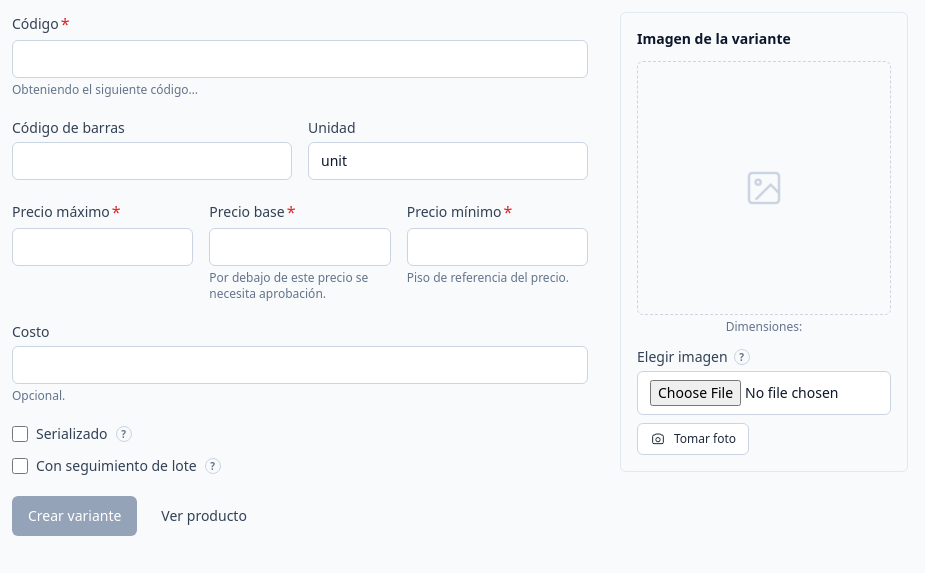
Test: VariantForm — create › blocks min > base client-side
The image size is (925, 573).
Type "CODE-1" into the field labelled "Código" at coordinates (300, 59), box [12, 40, 588, 78]
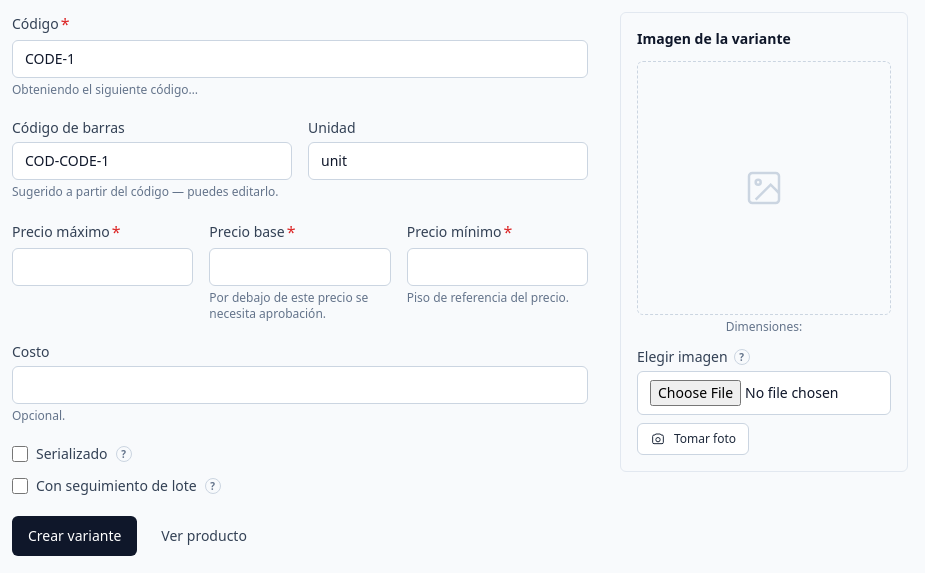
Type "10" into the number field labelled "Precio máximo" at coordinates (103, 267), box [12, 248, 193, 286]
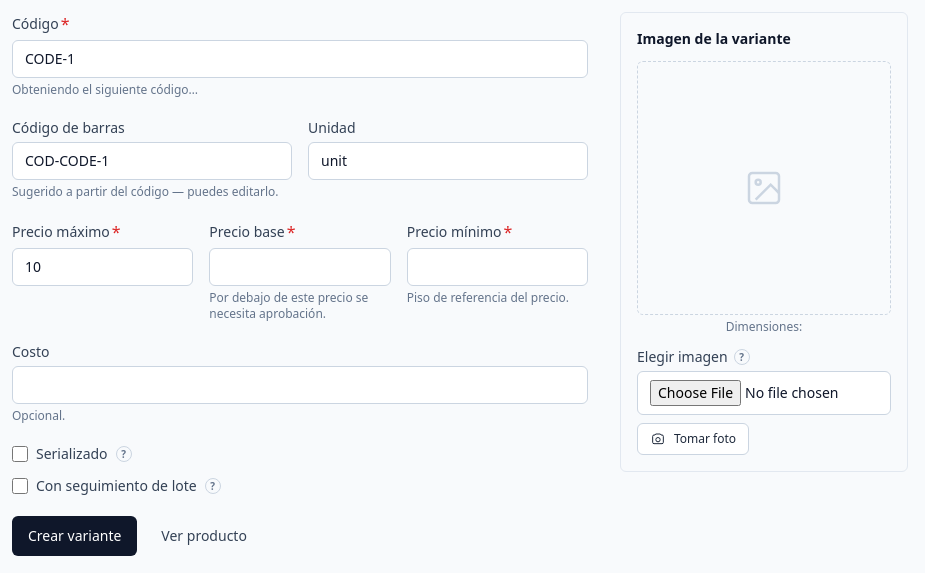
Type "8" into the number field labelled "Precio base" at coordinates (300, 267), box [209, 248, 391, 286]
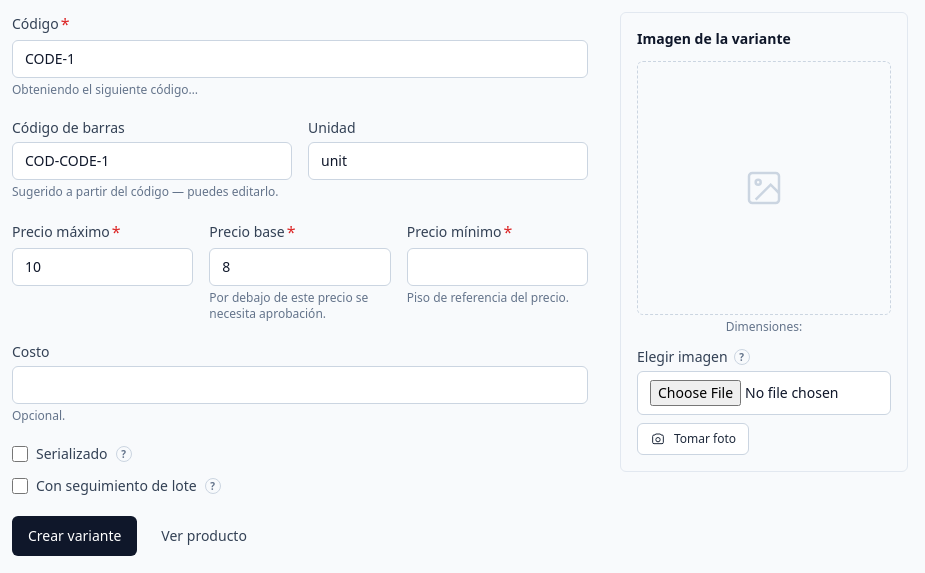
Type "20" into the number field labelled "Precio mínimo" at coordinates (497, 267), box [407, 248, 588, 286]
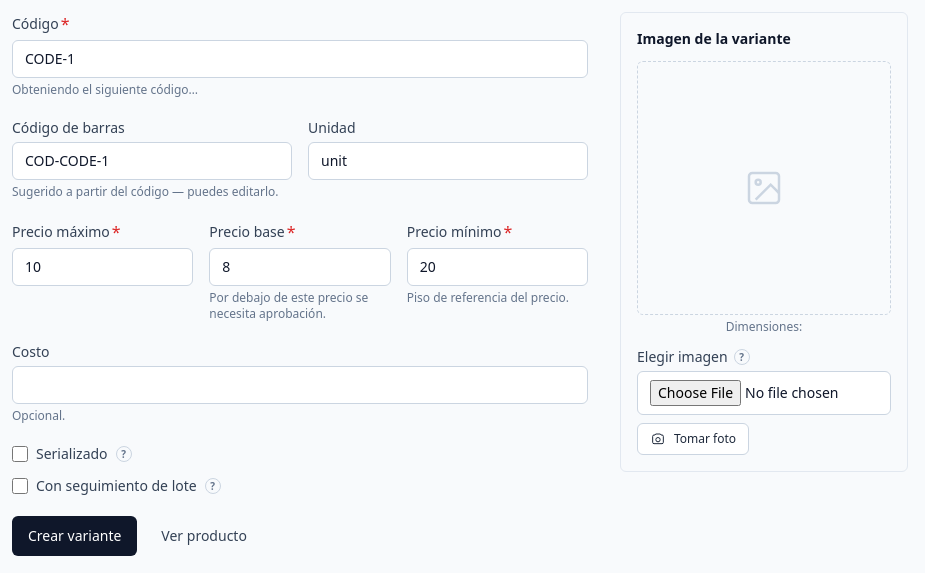
Click the button "Crear variante" at coordinates (75, 536), box [12, 516, 137, 556]
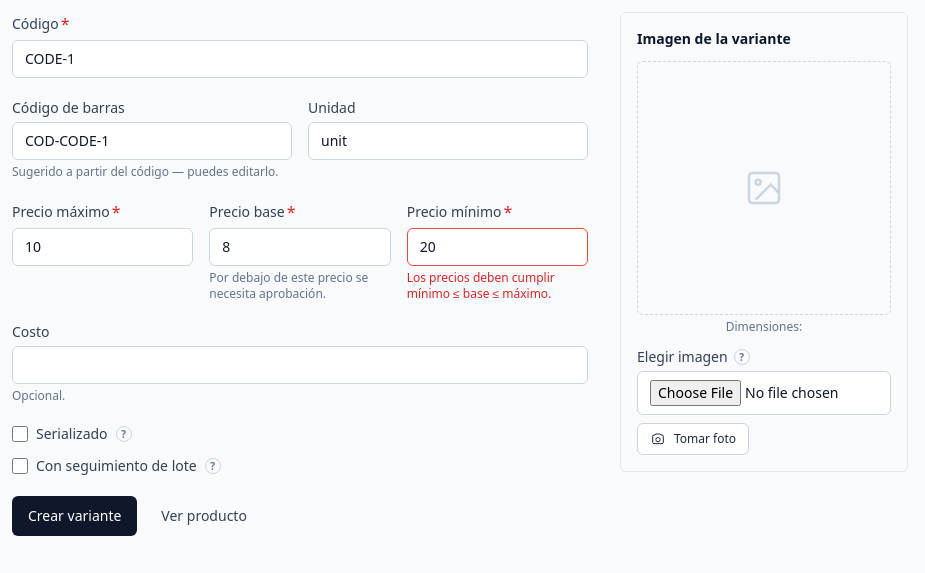
Now the text "Los precios deben cumplir mínimo ≤ base ≤ máximo." is shown, box [407, 269, 555, 302]
